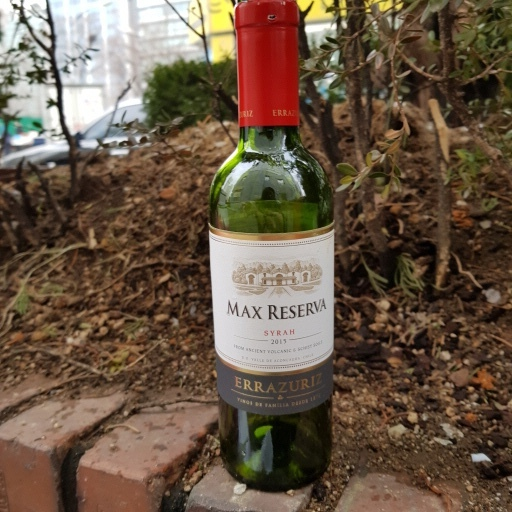Glass_2: (205, 2, 341, 490)
